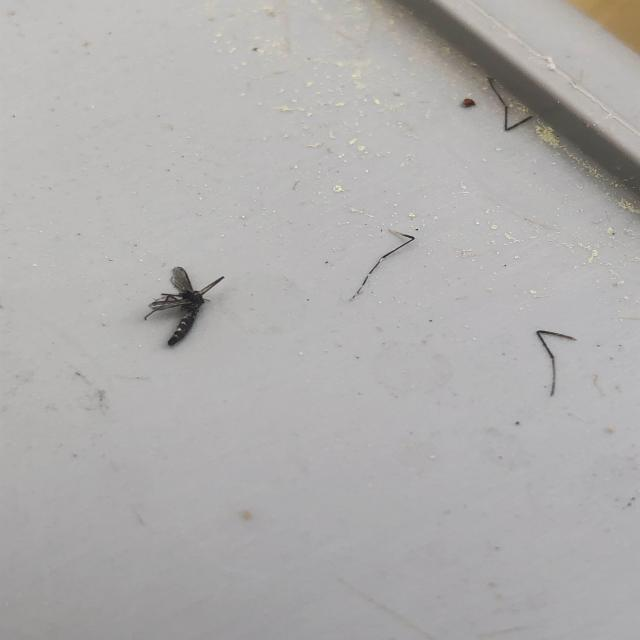albopictus: (140, 261, 233, 349)
